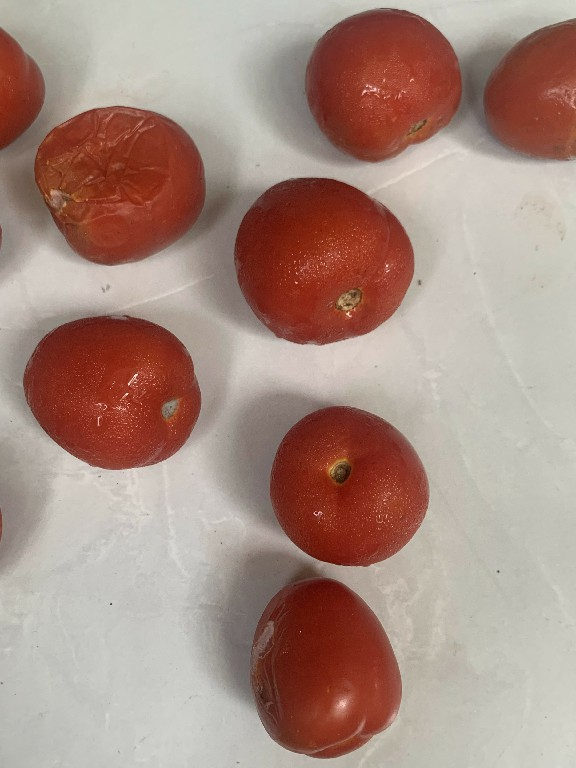NG: (225, 172, 431, 351), (237, 569, 408, 767), (22, 99, 209, 270)
OK: (248, 398, 440, 570), (24, 310, 204, 486), (288, 3, 470, 161)
